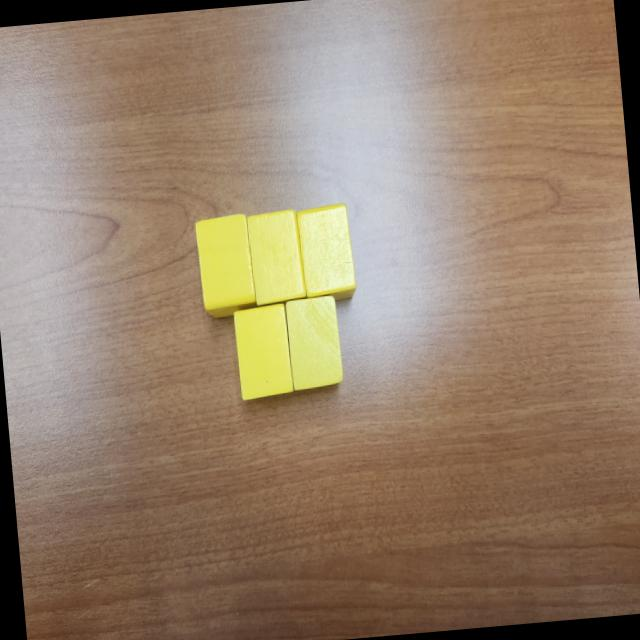yellow: (195, 213, 258, 320), (295, 202, 357, 304), (245, 206, 307, 308), (232, 301, 294, 400), (284, 293, 344, 391)
